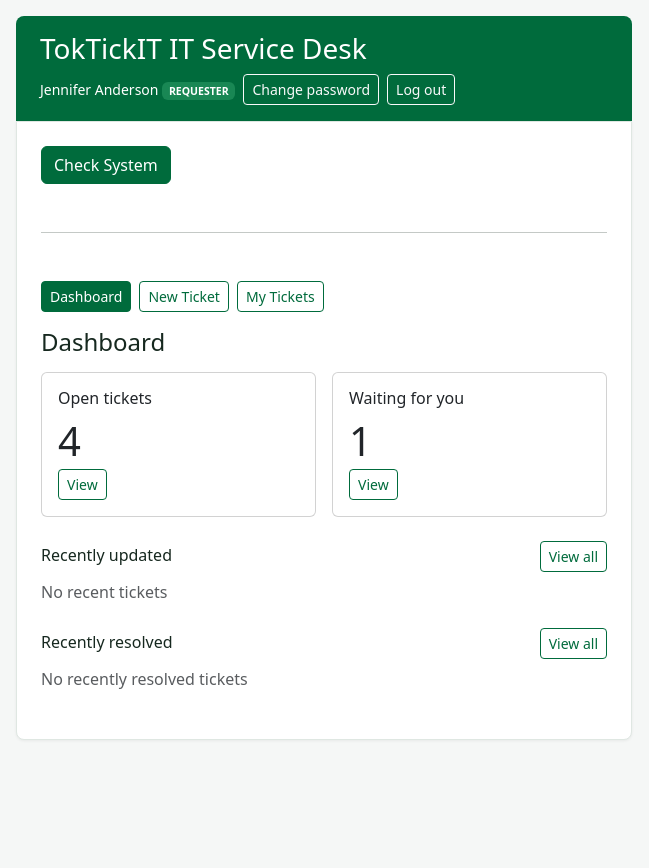
Test: App Shell › role-scoped navigation › Requester: New Ticket and My Tickets open from the navigation, and the Dashboard comes back
Expected: the heading "Dashboard" is shown, [41, 325, 165, 358]
What coordinates should you click on to do the following:
click the button "My Tickets"
I would click on:
 (280, 296)
Its box is [237, 281, 324, 312].
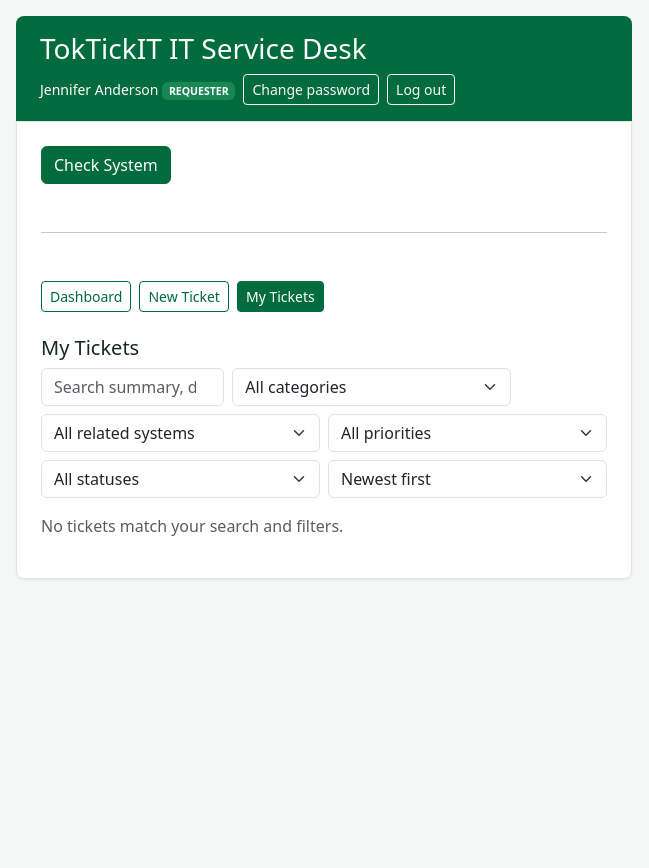
Expected: the heading "My Tickets" is shown, [41, 334, 139, 361]
What coordinates should you click on to do the following:
click the button "New Ticket"
I would click on:
 (184, 296)
Its box is [140, 281, 229, 312].
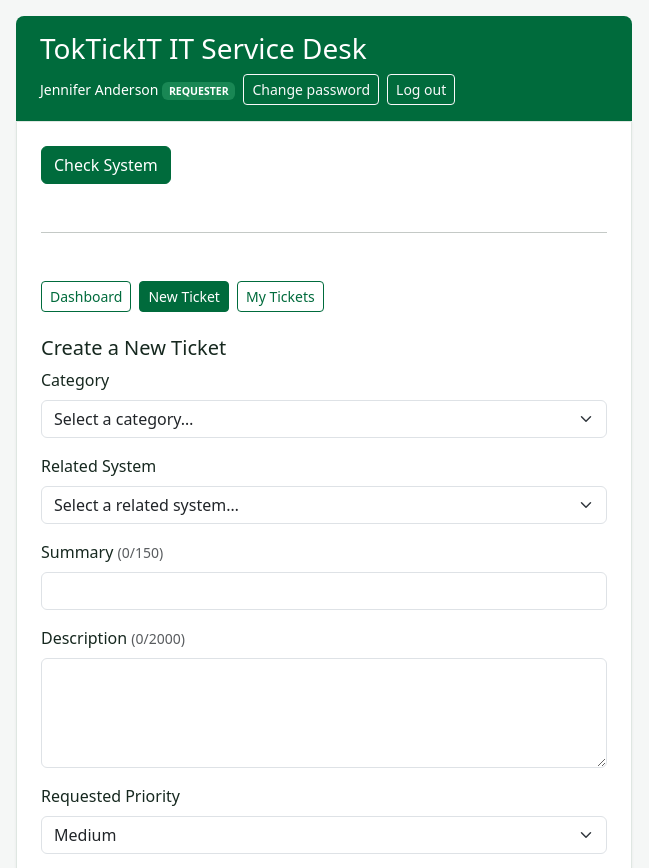
Expected: the button "New Ticket" is marked as current, [140, 281, 229, 312]
What coordinates should you click on to do the following:
click the button "Dashboard"
I would click on:
 (86, 296)
Its box is [41, 281, 132, 312].
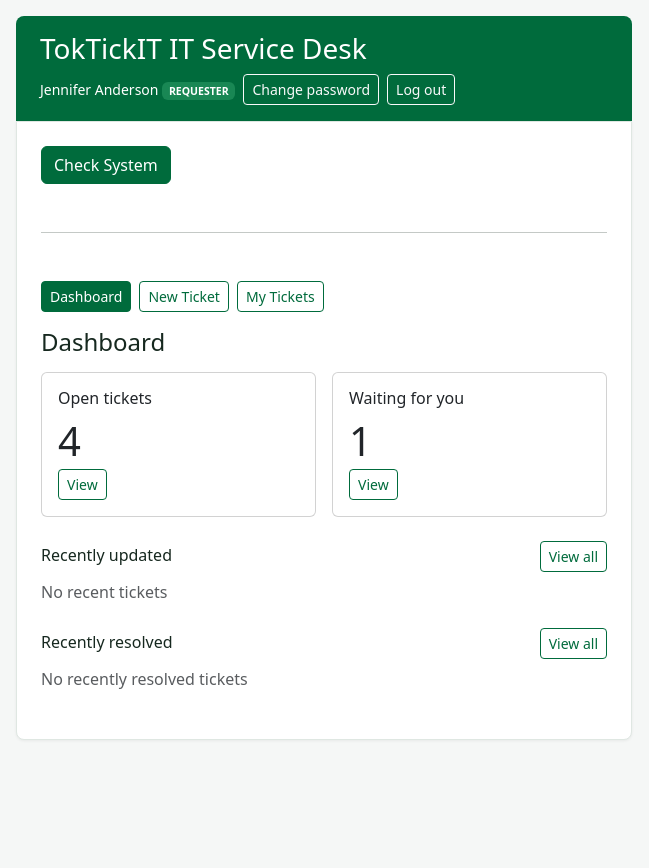
Expected: the heading "Dashboard" is shown, [41, 325, 165, 358]
